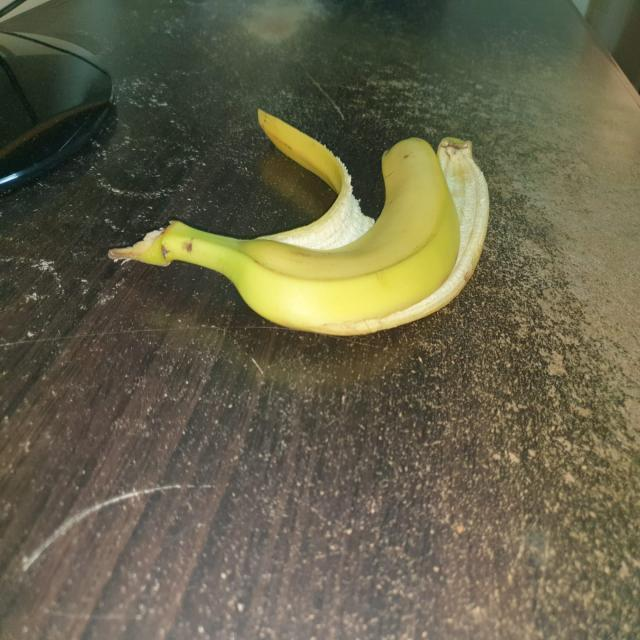banana-peel: (107, 106, 490, 337)
